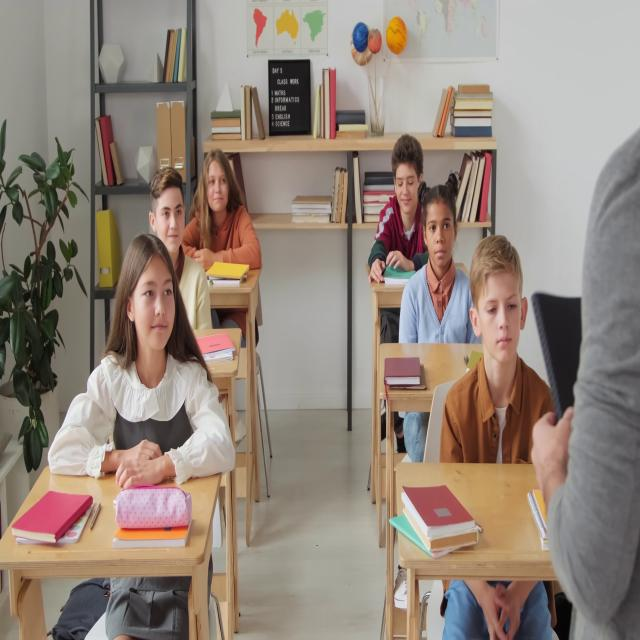listening: (49, 243, 242, 640), (437, 241, 555, 464), (182, 147, 261, 347), (399, 182, 474, 350), (152, 166, 219, 330), (367, 132, 427, 285)
